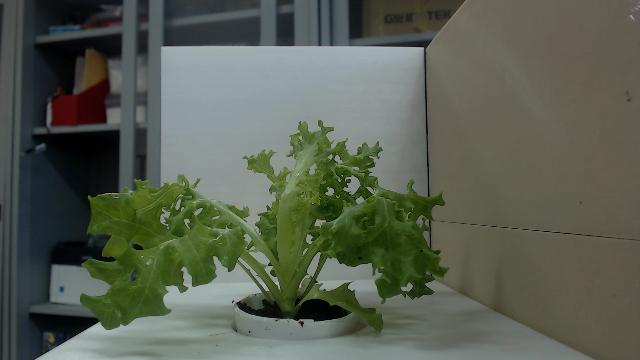Harvest Stage: (78, 118, 450, 334)
